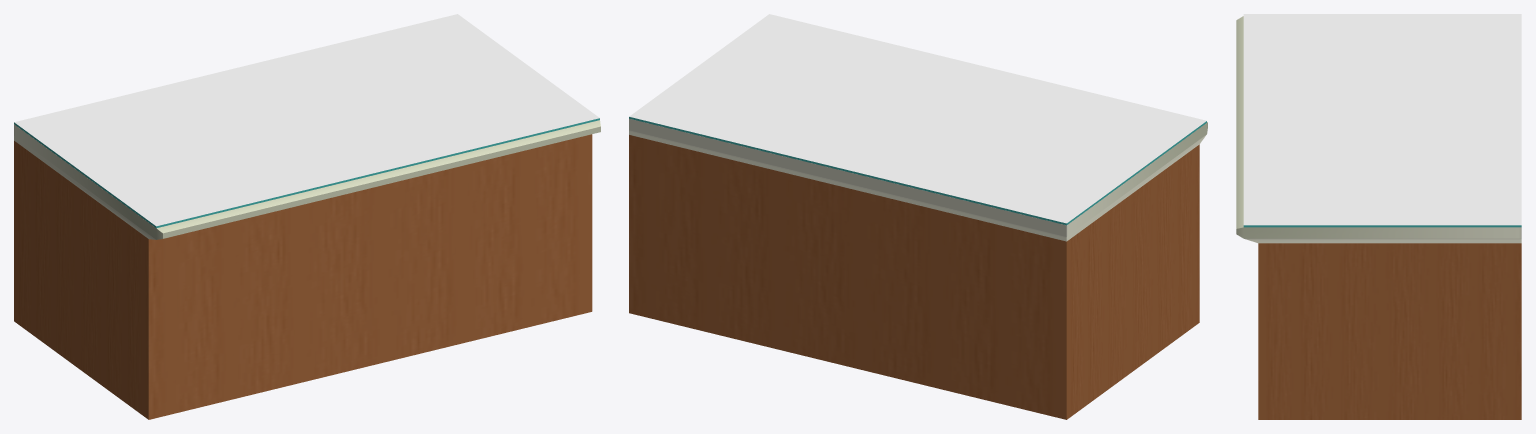
Rendered from Counter.FBX.
The picture shows the model from 3 angles, left to right: view 1: azimuth 30°, elevation 25°; view 2: azimuth 150°, elevation 25°; view 3: azimuth 270°, elevation 25°; orthographic projection. The views are drawn at different scales.
Parts seen in each view (by area): view 1: Countertop; view 2: Countertop; view 3: Countertop.
Part boxes in pixels (bbox=[...]): Countertop: bbox=[14, 14, 600, 419]; Countertop: bbox=[629, 14, 1207, 419]; Countertop: bbox=[1236, 14, 1521, 419].
Bounding box in the file's own units: 350 × 150 × 199.
